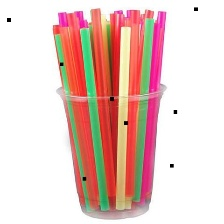drinking_straw: (110, 24, 133, 214)
glass: (49, 80, 172, 222)
